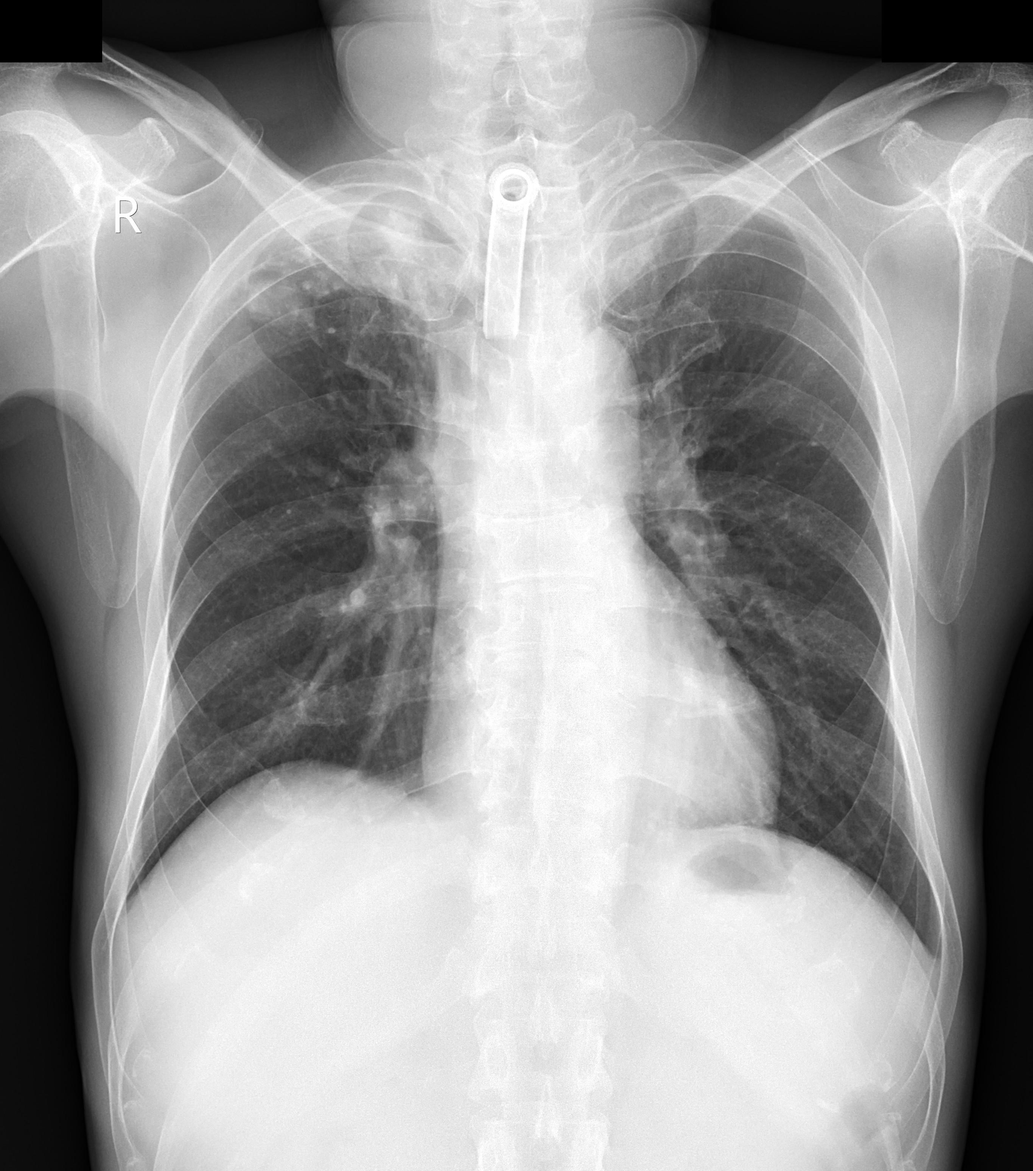Pleural thickening: (188, 162, 451, 295)
Pulmonary fibrosis: (223, 205, 433, 421)
